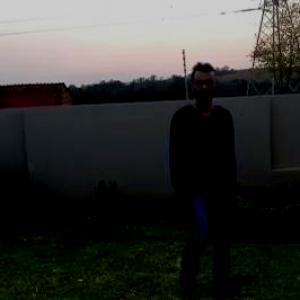follow: (168, 55, 240, 299)
